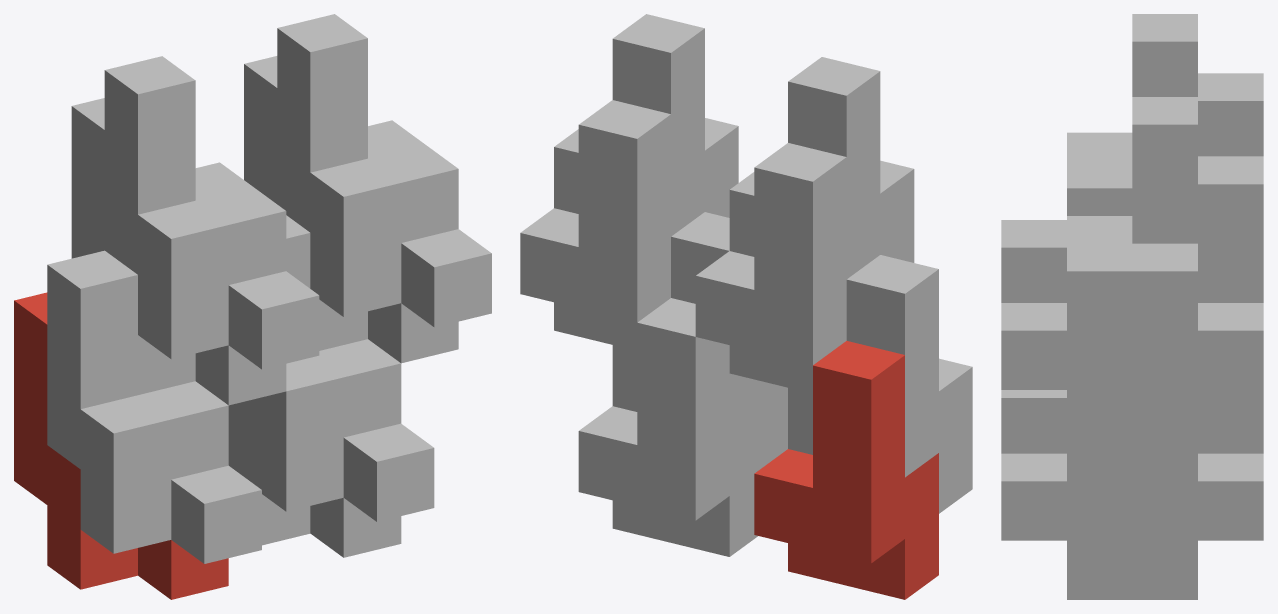
Rendered from tiling.obj.
3 views of the same model, side by side, from view 1: azimuth 30°, elevation 25°; view 2: azimuth 150°, elevation 25°; view 3: azimuth 270°, elevation 25° (orthographic). The views are drawn at different scales.
Visible parts, largest first — view 1: copy_1_domain_4, copy_1_domain_8, copy_1_domain_2, copy_1_domain_6, copy_1_domain_1, copy_1_domain_3, copy_1_domain_7, copy_1_domain_5; view 2: copy_1_domain_1, copy_1_domain_5, copy_1_domain_3, copy_1_domain_7, copy_1_domain_2, copy_1_domain_4, copy_1_domain_8, copy_1_domain_6; view 3: copy_1_domain_8, copy_1_domain_7, copy_1_domain_5, copy_1_domain_4, copy_1_domain_6, copy_1_domain_3, copy_1_domain_2.
Boxes of the visible parts, <box> form: copy_1_domain_4: <box>104,56,319,369</box>; copy_1_domain_8: <box>277,14,491,327</box>; copy_1_domain_2: <box>47,250,261,563</box>; copy_1_domain_6: <box>228,215,434,521</box>; copy_1_domain_1: <box>14,292,228,599</box>; copy_1_domain_3: <box>71,98,286,405</box>; copy_1_domain_7: <box>244,56,458,363</box>; copy_1_domain_5: <box>228,410,401,557</box>; copy_1_domain_1: <box>754,341,938,599</box>; copy_1_domain_5: <box>578,298,763,556</box>; copy_1_domain_3: <box>695,143,846,393</box>; copy_1_domain_7: <box>520,100,670,350</box>; copy_1_domain_2: <box>788,255,972,513</box>; copy_1_domain_4: <box>729,57,914,278</box>; copy_1_domain_8: <box>554,14,738,236</box>; copy_1_domain_6: <box>612,212,787,466</box>; copy_1_domain_8: <box>1001,97,1197,389</box>; copy_1_domain_7: <box>1067,156,1263,449</box>; copy_1_domain_5: <box>1067,390,1263,599</box>; copy_1_domain_4: <box>1001,14,1197,302</box>; copy_1_domain_6: <box>1001,449,1197,540</box>; copy_1_domain_3: <box>1198,73,1263,156</box>; copy_1_domain_2: <box>1001,390,1066,453</box>.
Bounding box in the file's own units: 6 × 8 × 4.
